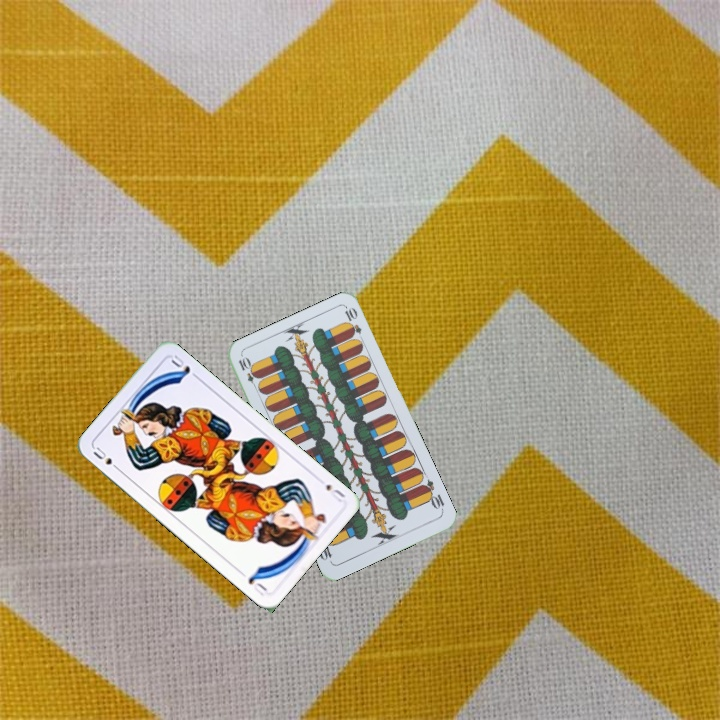E10: (417, 476, 447, 514), (234, 353, 261, 392)
SU: (89, 443, 124, 474), (322, 480, 348, 503)
